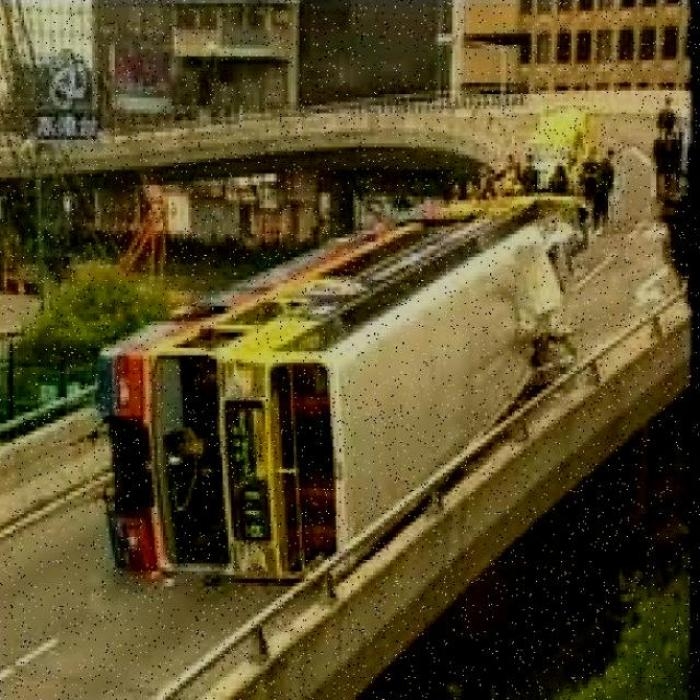Accident: (80, 166, 594, 578)
